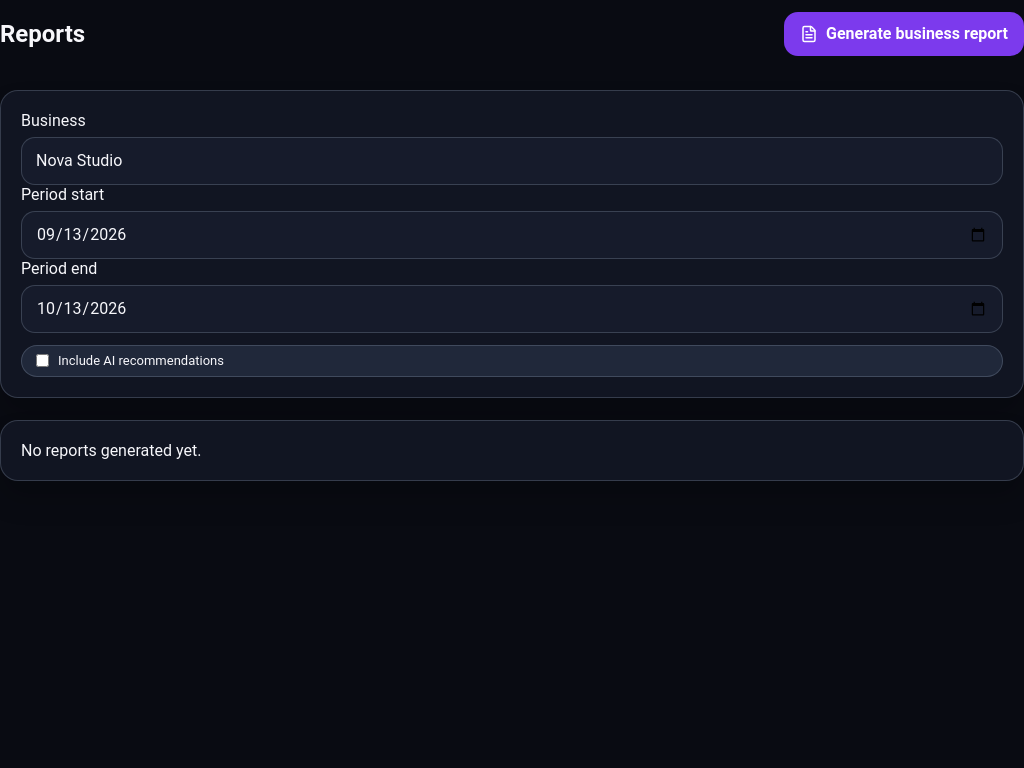
Scenario: reports client › queues and polls an async report until completion
This screenshot has width=1024, height=768.
What coordinates should you click on to do the following:
click the button "Generate business report"
I would click on:
 (904, 34)
Its box is [784,12,1023,56].
(page scrolled)
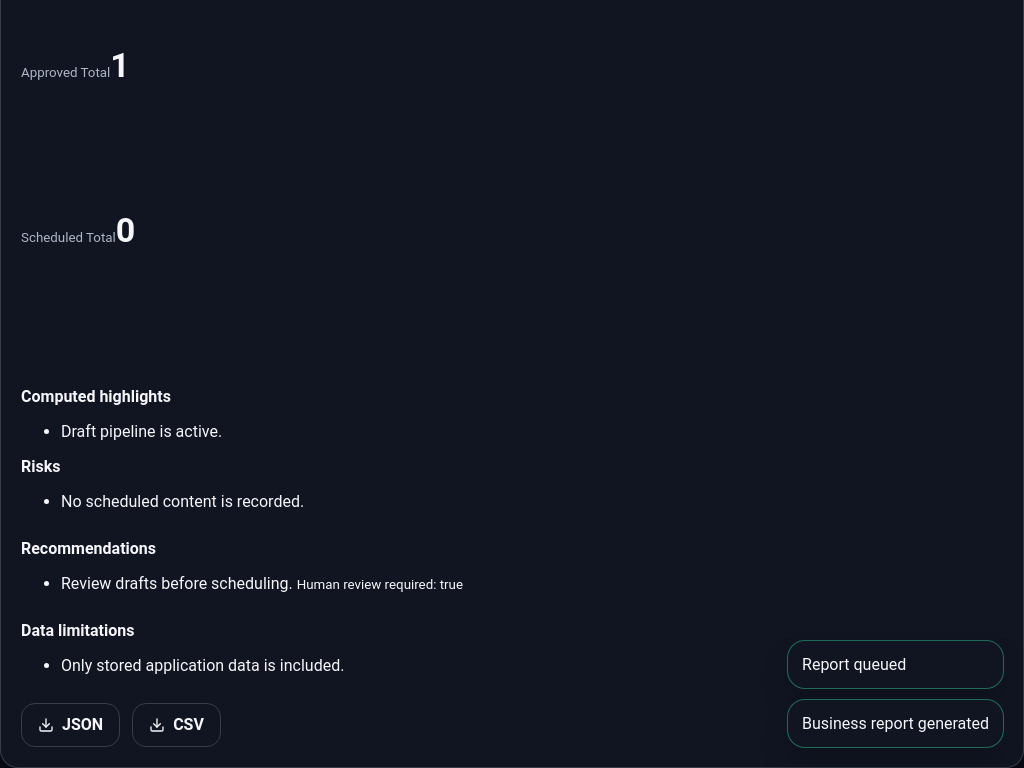
Now the list item "Draft pipeline is active." is shown, box [61,422,222,441]
Now the text "Human review required: true" is shown, box [297,577,463,592]
